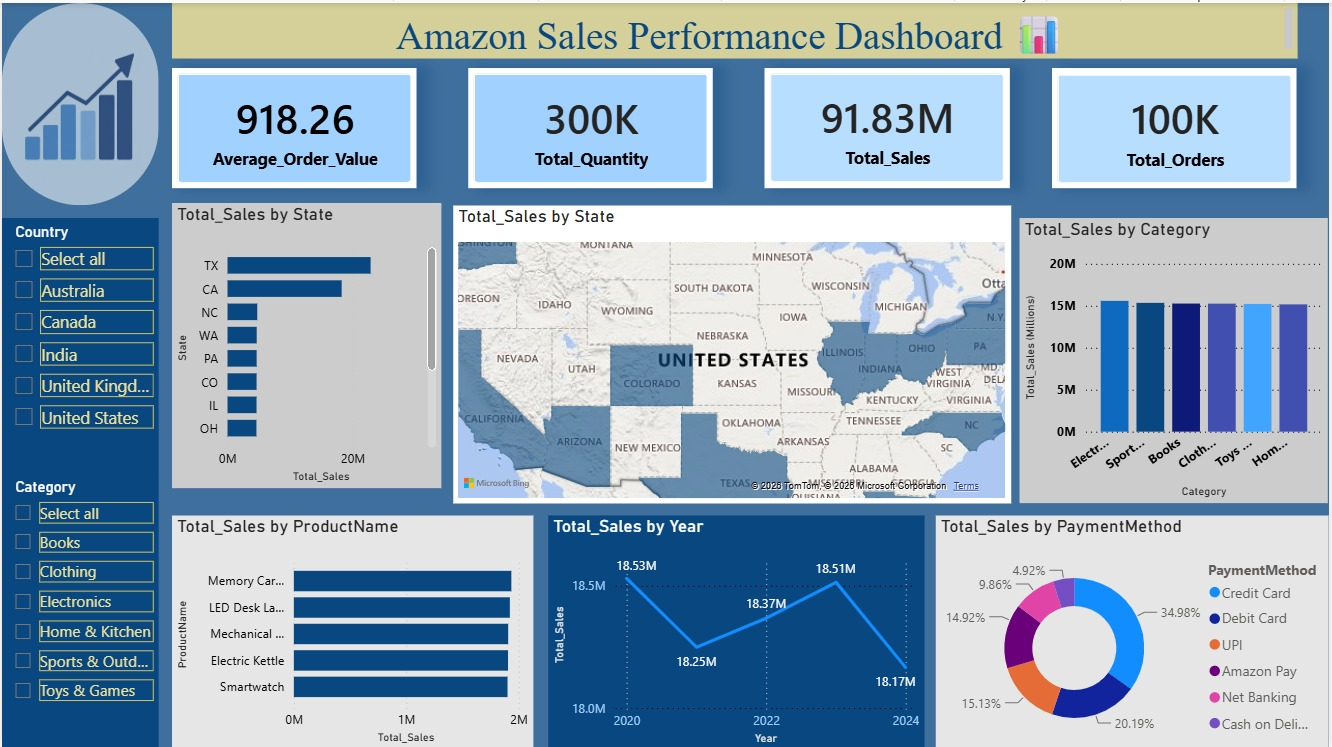

Layout of this report page (visuals, bound fields, positions):
{"tool":"powerbi","page":{"name":" AMAZON SALES DASHBOARD ","canvas":[1280,720],"ordinal":0},"visuals":[{"type":"cardVisual","fields":{"Data":["Amazon.Total_Sales"]},"box":[736.2,62.5,236.5,115.8],"z":0},{"type":"cardVisual","fields":{"Data":["Amazon.Total_Orders"]},"box":[1013.8,62.5,236.2,116.2],"z":1000},{"type":"cardVisual","fields":{"Data":["Amazon.Total_Quantity"]},"box":[450,62.5,236.2,116.2],"z":2000},{"type":"cardVisual","fields":{"Data":["Amazon.Average_Order_Value"]},"box":[163.8,62.5,236.2,116.2],"z":3000},{"type":"clusteredColumnChart","fields":{"Category":["Amazon.Category"],"Y":["Amazon.Total_Sales"]},"box":[982.5,207.5,297.5,275],"z":4000},{"type":"clusteredBarChart","fields":{"Category":["Amazon.State"],"Y":["Amazon.Total_Sales"]},"box":[164.1,193,260,275],"z":5000},{"type":"lineChart","fields":{"Y":["Amazon.Total_Sales"],"Category":["Amazon.OrderDate.Variation.Date Hierarchy.Year","Amazon.OrderDate.Variation.Date Hierarchy.Quarter","Amazon.OrderDate.Variation.Date Hierarchy.Month","Amazon.OrderDate.Variation.Date Hierarchy.Day"]},"box":[527.2,494.6,363.1,225.6],"z":6000},{"type":"clusteredBarChart","fields":{"Y":["Amazon.Total_Sales"],"Category":["Amazon.ProductName"]},"box":[163.8,495,348.8,225],"z":7000},{"type":"donutChart","fields":{"Category":["Amazon.PaymentMethod"],"Y":["Amazon.Total_Sales"]},"box":[901.2,494.6,378.8,225.6],"z":8000},{"type":"slicer","fields":{"Values":["Amazon.Category"]},"box":[0,453.8,151.2,266.2],"z":9000},{"type":"filledMap","fields":{"Category":["Amazon.State"]},"box":[435,195,537.5,287.5],"z":10000},{"type":"slicer","fields":{"Values":["Amazon.Country"]},"box":[0,207.5,151.2,246.2],"z":11000},{"type":"textbox","box":[163.8,0,1086.2,53.8],"z":12000},{"type":"image","box":[0,0,151.2,195],"z":13000}]}

Visuals, with their boxes in screenshot pixels (x1, y1, x2, y2), scaled from the page's 1280x720 canvas onto the 1332x747 screenshot:
cardVisual - Amazon.Total_Sales: pyautogui.locateOnScreen(766, 65, 1012, 185)
cardVisual - Amazon.Total_Orders: pyautogui.locateOnScreen(1055, 65, 1301, 185)
cardVisual - Amazon.Total_Quantity: pyautogui.locateOnScreen(468, 65, 714, 185)
cardVisual - Amazon.Average_Order_Value: pyautogui.locateOnScreen(170, 65, 416, 185)
clusteredColumnChart - Amazon.Category x Amazon.Total_Sales: pyautogui.locateOnScreen(1022, 215, 1331, 501)
clusteredBarChart - Amazon.State x Amazon.Total_Sales: pyautogui.locateOnScreen(171, 200, 441, 486)
lineChart - Amazon.Total_Sales x Amazon.OrderDate.Variation.Date Hierarchy.Year: pyautogui.locateOnScreen(549, 513, 926, 746)
clusteredBarChart - Amazon.Total_Sales x Amazon.ProductName: pyautogui.locateOnScreen(170, 514, 533, 746)
donutChart - Amazon.PaymentMethod x Amazon.Total_Sales: pyautogui.locateOnScreen(938, 513, 1331, 746)
slicer - Amazon.Category: pyautogui.locateOnScreen(0, 471, 157, 746)
filledMap - Amazon.State: pyautogui.locateOnScreen(453, 202, 1012, 501)
slicer - Amazon.Country: pyautogui.locateOnScreen(0, 215, 157, 471)
textbox: pyautogui.locateOnScreen(170, 0, 1301, 56)
image: pyautogui.locateOnScreen(0, 0, 157, 202)
